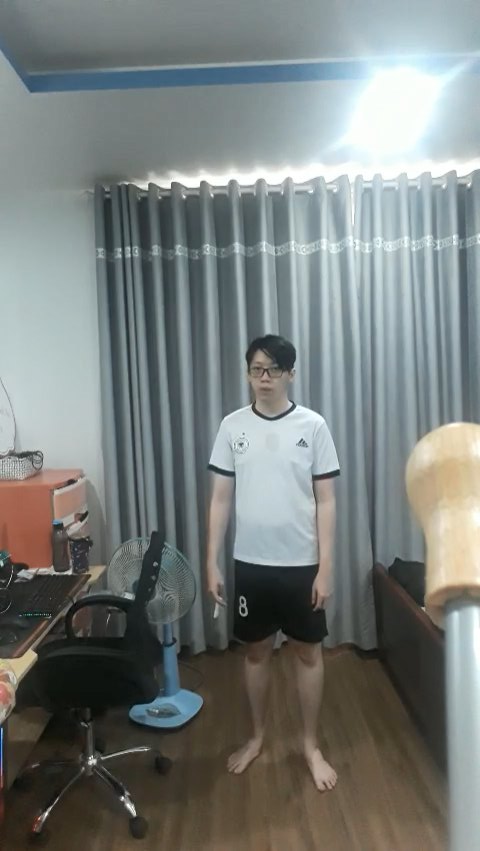cigarette: (214, 598, 223, 620)
person: (195, 331, 367, 810)
